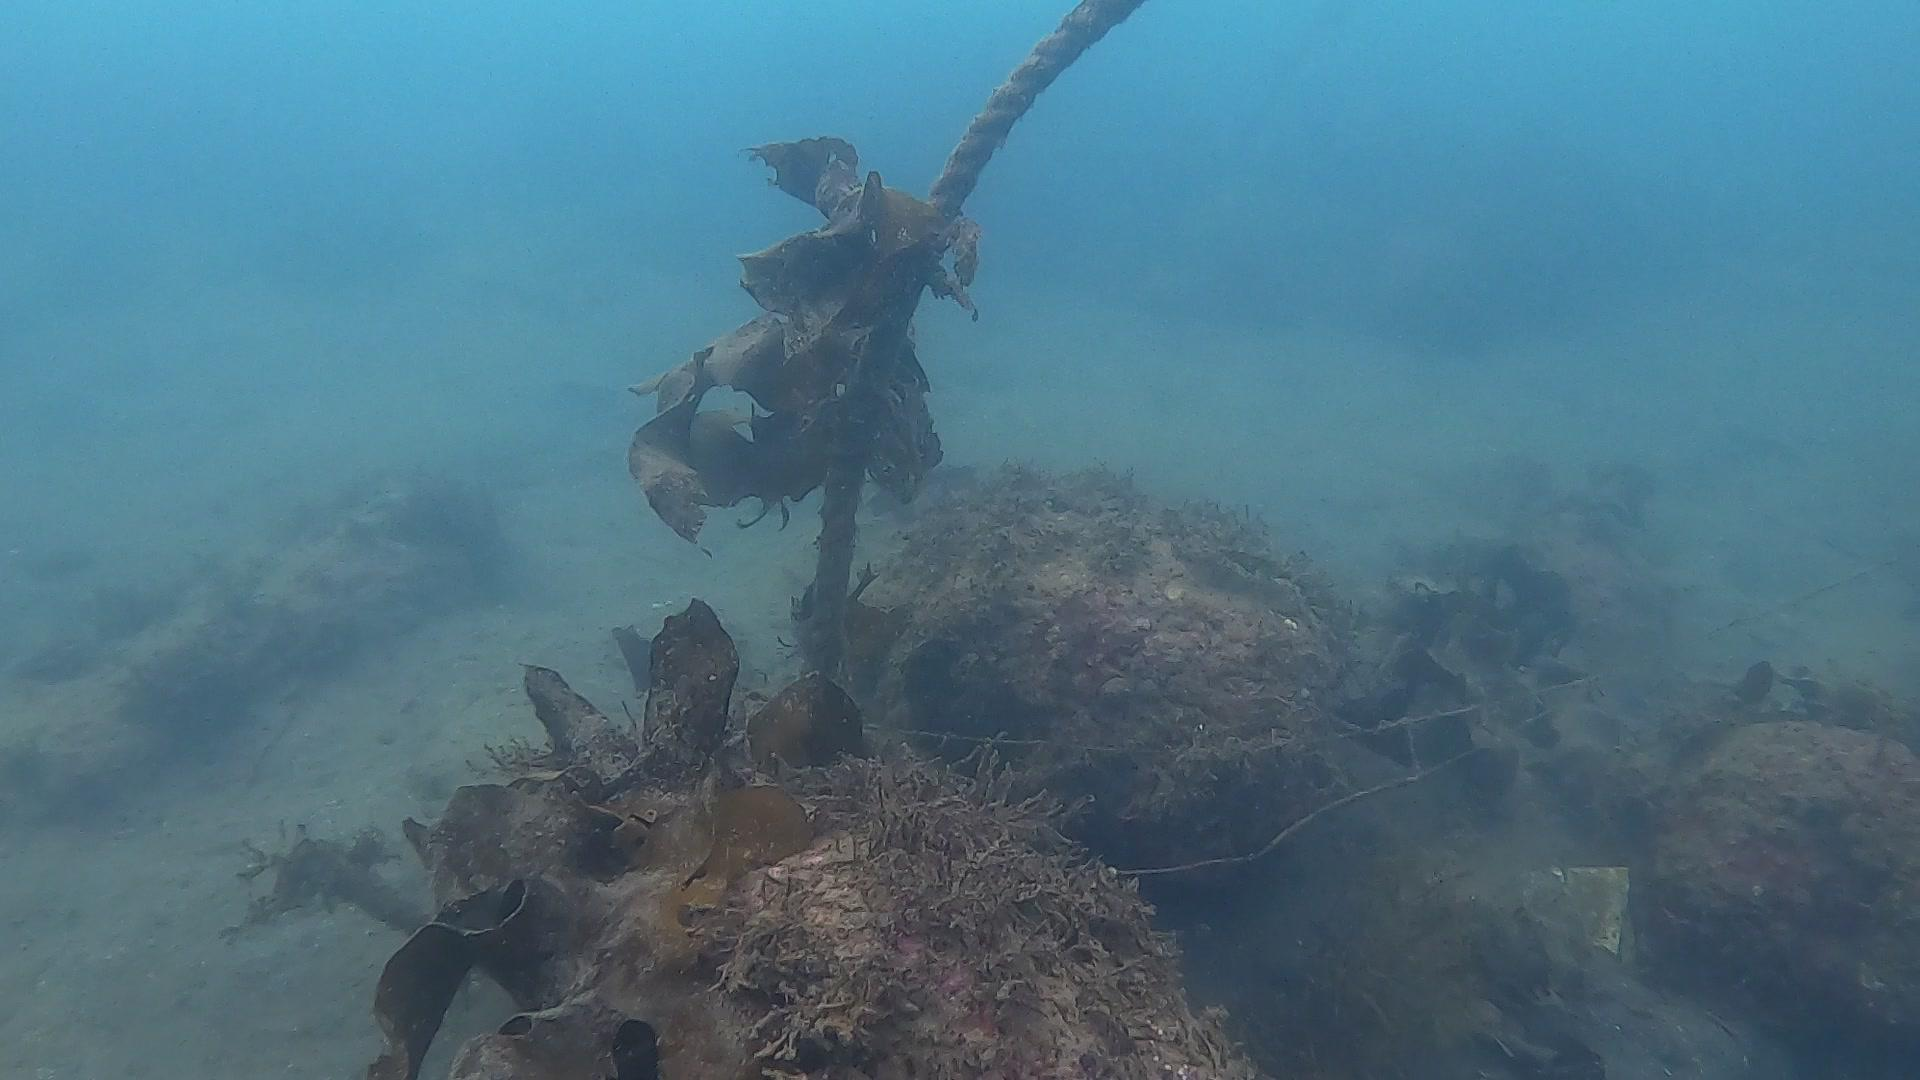rope: (675, 0, 1145, 671)
